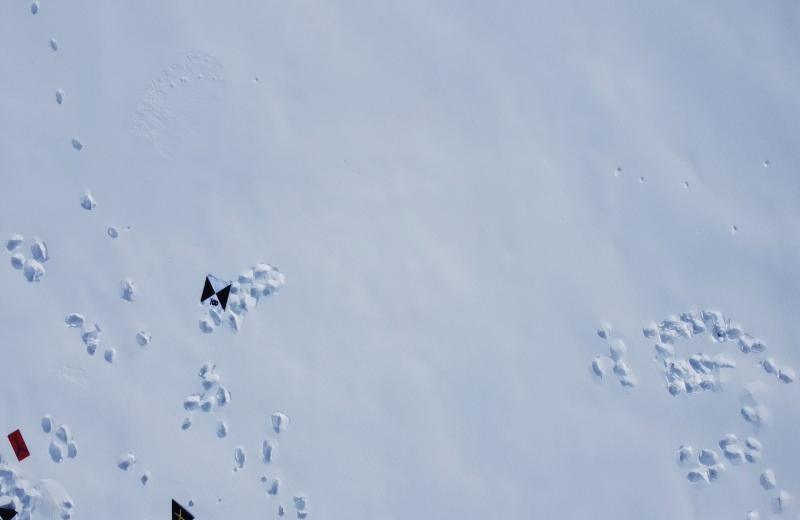Rectangle: (5, 424, 36, 465)
Triangle: (164, 493, 195, 520)
